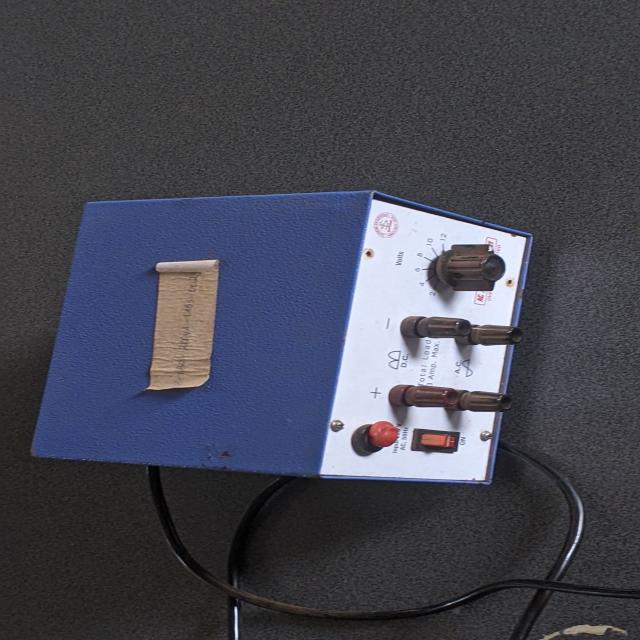Analog DC Power Supply: (12, 183, 550, 491)
